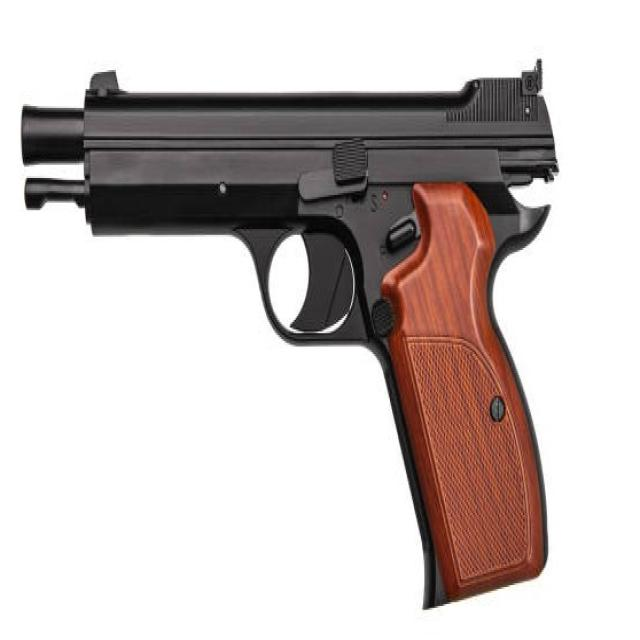pistol: (14, 42, 564, 622)
